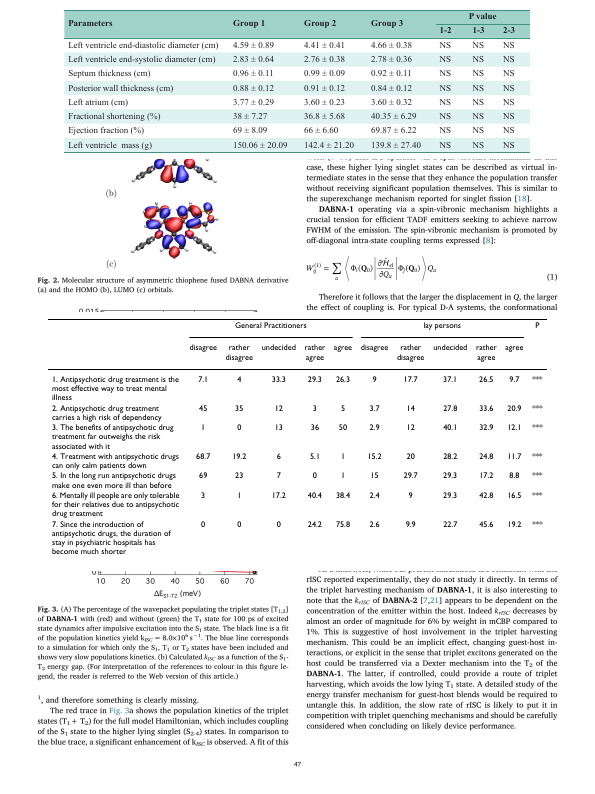borderless: (46, 317, 548, 565), (63, 8, 530, 152)
cell: (50, 520, 171, 557), (50, 491, 180, 519), (50, 375, 179, 403), (50, 423, 174, 452), (50, 471, 176, 491), (50, 452, 179, 471), (50, 404, 162, 423), (66, 41, 219, 51), (66, 55, 216, 65), (66, 84, 174, 94), (66, 112, 161, 122), (66, 69, 151, 80), (66, 141, 152, 151), (66, 126, 144, 137), (233, 321, 307, 331), (66, 98, 128, 108), (395, 344, 425, 363), (232, 141, 288, 151), (224, 344, 253, 363), (370, 126, 417, 137), (303, 141, 354, 151), (370, 141, 421, 151), (370, 112, 417, 122), (232, 69, 274, 80), (303, 69, 345, 80), (370, 69, 412, 80), (67, 20, 113, 30), (303, 344, 326, 363), (474, 344, 497, 363), (232, 41, 274, 51), (303, 41, 345, 51), (370, 41, 412, 51), (232, 55, 274, 65), (303, 55, 345, 65), (370, 55, 412, 65), (232, 84, 274, 94), (303, 84, 345, 94), (370, 84, 412, 94), (232, 98, 274, 108), (303, 98, 345, 108), (370, 98, 412, 108), (303, 112, 345, 122), (232, 126, 268, 137), (303, 126, 339, 137), (422, 321, 461, 331), (232, 112, 268, 122), (369, 20, 404, 30), (232, 20, 266, 30), (303, 20, 337, 30), (260, 344, 296, 353), (432, 344, 468, 353), (467, 13, 497, 23), (359, 344, 389, 353), (188, 344, 217, 353), (332, 344, 353, 353), (504, 344, 524, 353), (334, 491, 351, 501), (334, 520, 351, 530), (270, 375, 286, 385), (306, 375, 322, 385), (334, 375, 350, 385), (402, 375, 418, 385), (442, 375, 458, 385), (478, 375, 494, 385), (442, 404, 458, 414), (478, 404, 494, 414), (506, 404, 522, 414), (442, 423, 458, 433), (478, 423, 494, 433), (506, 423, 522, 433), (195, 452, 211, 462), (231, 452, 247, 462), (366, 452, 382, 462), (442, 452, 458, 462), (478, 452, 494, 462), (506, 452, 522, 462), (402, 471, 418, 481), (442, 471, 458, 481), (478, 471, 494, 481), (270, 491, 286, 501), (306, 491, 322, 501), (442, 491, 458, 501), (478, 491, 494, 501), (506, 491, 522, 501), (306, 520, 322, 530), (442, 520, 458, 530), (478, 520, 494, 530), (506, 520, 522, 530), (438, 69, 452, 80), (471, 69, 485, 80), (438, 126, 452, 137), (471, 126, 485, 137), (502, 69, 515, 80), (502, 126, 515, 137), (438, 27, 452, 37), (471, 27, 485, 37), (501, 27, 515, 37), (438, 41, 452, 51), (471, 41, 485, 51), (438, 55, 452, 65), (471, 55, 485, 65), (438, 84, 452, 94), (471, 84, 485, 94), (438, 98, 452, 108), (471, 98, 485, 108), (438, 112, 452, 122), (471, 112, 485, 122), (438, 141, 452, 151), (471, 141, 485, 151), (502, 41, 515, 51), (502, 55, 515, 65), (502, 84, 515, 94), (502, 98, 515, 108), (502, 112, 515, 122), (502, 141, 515, 151), (197, 375, 209, 385), (508, 375, 520, 385), (531, 375, 543, 385), (368, 404, 380, 414), (531, 404, 543, 414), (368, 423, 380, 433), (531, 423, 543, 433), (308, 452, 320, 462), (531, 452, 543, 462), (508, 471, 520, 481), (531, 471, 543, 481), (368, 491, 380, 501), (531, 491, 543, 501), (368, 520, 380, 530), (404, 520, 416, 530), (531, 520, 543, 530), (309, 423, 320, 433), (337, 423, 348, 433), (198, 404, 208, 414), (234, 404, 244, 414), (273, 404, 283, 414), (405, 404, 415, 414), (273, 423, 283, 433), (405, 423, 415, 433), (405, 452, 415, 462), (198, 471, 208, 481), (234, 471, 244, 481), (369, 471, 379, 481), (339, 404, 346, 414), (339, 452, 346, 462), (339, 471, 346, 481), (534, 321, 540, 331), (236, 375, 242, 385), (371, 375, 377, 385), (311, 404, 317, 414), (200, 423, 206, 433), (236, 423, 242, 433), (275, 452, 281, 462), (275, 471, 281, 481), (311, 471, 317, 481), (200, 491, 206, 501), (236, 491, 242, 501), (407, 491, 413, 501), (200, 520, 206, 530), (236, 520, 242, 530), (275, 520, 281, 530)
